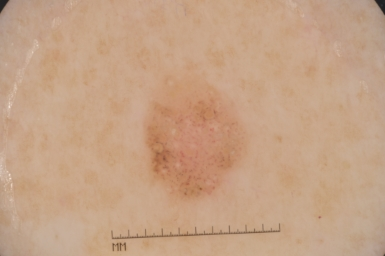seborrheic keratosis: (132, 65, 252, 211)
